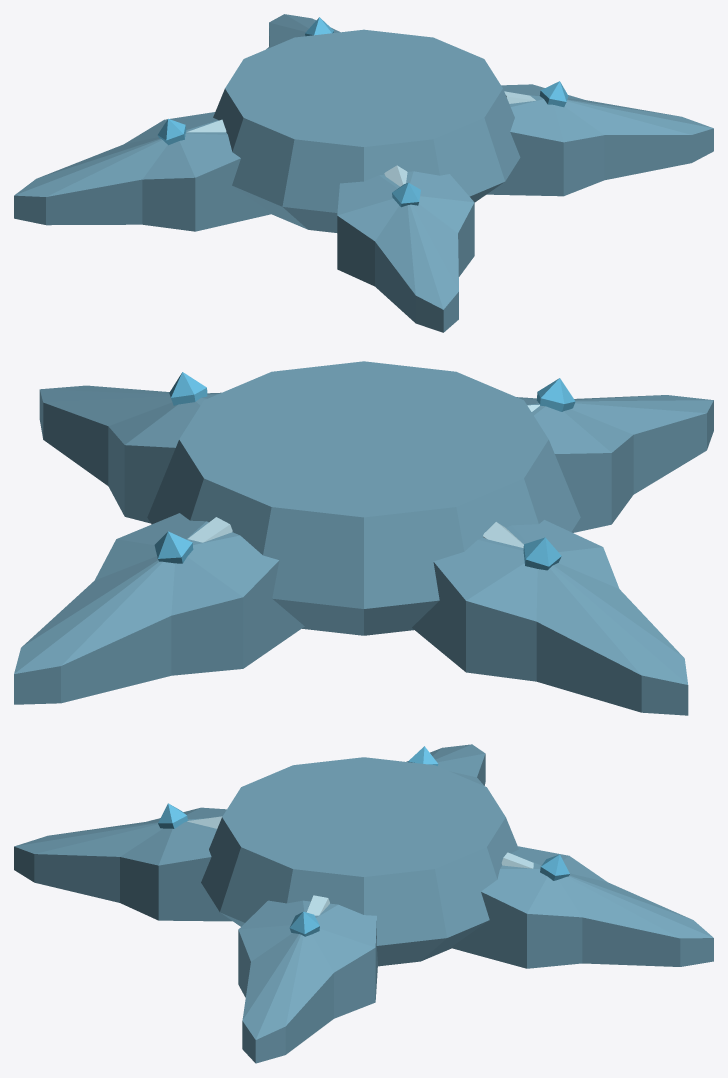
The model's file is FrostRoot.glb.
3 renders of one model, top to bottom at view 1: azimuth 30°, elevation 25°; view 2: azimuth 150°, elevation 25°; view 3: azimuth 270°, elevation 25°, orthographic. The views are drawn at different scales.
Visible parts, largest first — view 1: FrostRoot_FrostRootBody, FrostRoot_RootIceCrystals, FrostRoot_FrostRootIce; view 2: FrostRoot_FrostRootBody, FrostRoot_RootIceCrystals, FrostRoot_FrostRootIce; view 3: FrostRoot_FrostRootBody, FrostRoot_RootIceCrystals, FrostRoot_FrostRootIce.
Boxes of the visible parts, left/top/right/bottom form: FrostRoot_FrostRootBody: left=14, top=14, right=713, bottom=332; FrostRoot_RootIceCrystals: left=157, top=17, right=568, bottom=207; FrostRoot_FrostRootIce: left=187, top=91, right=535, bottom=186; FrostRoot_FrostRootBody: left=14, top=361, right=713, bottom=715; FrostRoot_RootIceCrystals: left=154, top=372, right=575, bottom=570; FrostRoot_FrostRootIce: left=188, top=404, right=539, bottom=547; FrostRoot_FrostRootBody: left=14, top=744, right=713, bottom=1063; FrostRoot_RootIceCrystals: left=158, top=746, right=569, bottom=936; FrostRoot_FrostRootIce: left=187, top=816, right=533, bottom=915.
Size of the model in its own units: 3.7 by 0.6 by 3.7.
